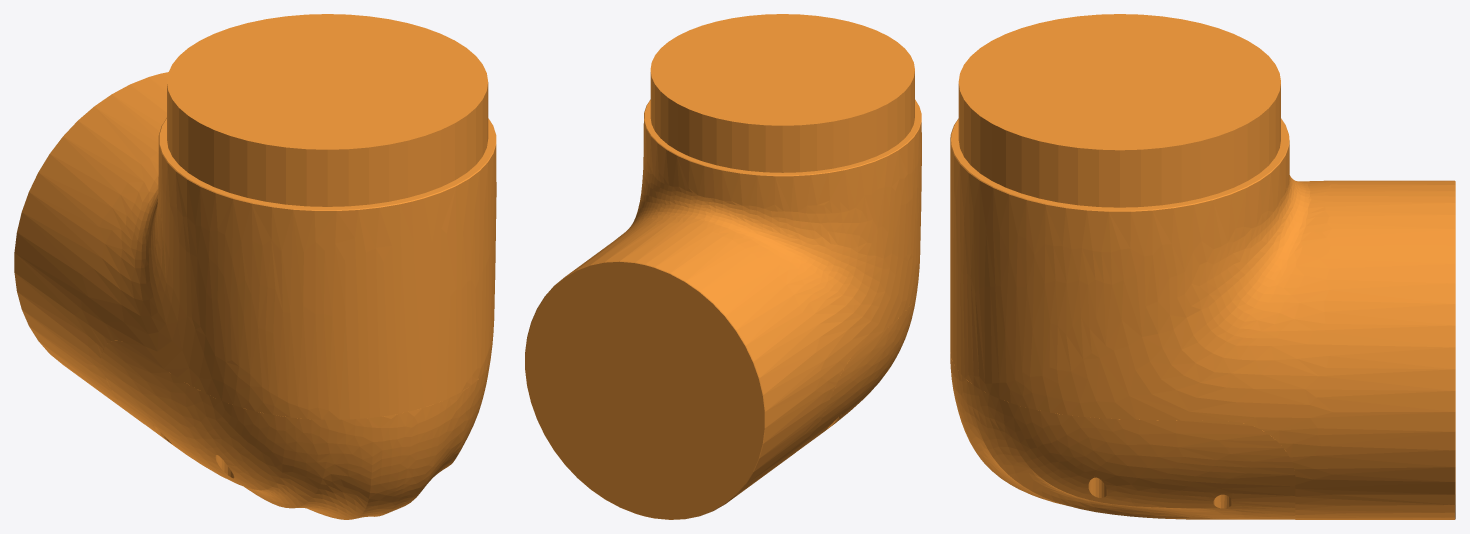
Rendered from DobotNova2Link1.dae.
3 views of the same model, side by side, from view 1: azimuth 30°, elevation 25°; view 2: azimuth 150°, elevation 25°; view 3: azimuth 270°, elevation 25° (orthographic). The views are drawn at different scales.
Parts seen in each view (by area): view 1: DobotNova2Link1; view 2: DobotNova2Link1; view 3: DobotNova2Link1.
Part boxes in pixels (x1,y1,x2,y2): DobotNova2Link1: [14, 14, 496, 519]; DobotNova2Link1: [525, 14, 921, 519]; DobotNova2Link1: [950, 14, 1455, 519].
Bounding box in the file's own units: 0.089 × 0.1326 × 0.1223.
